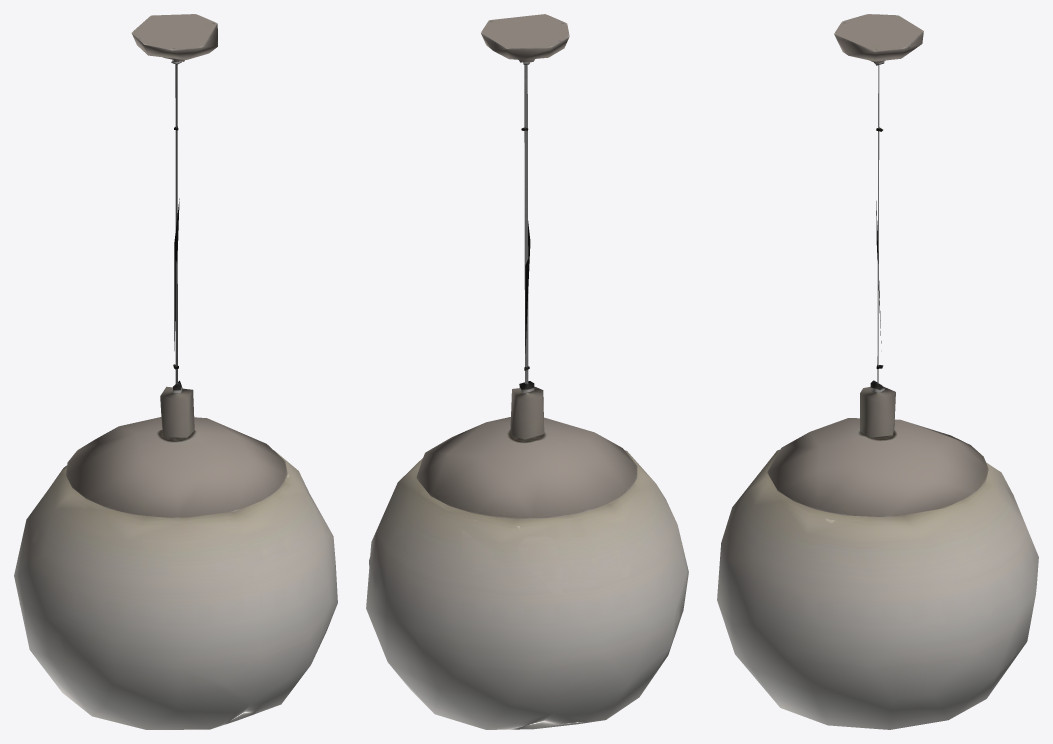
The picture shows the model from 3 angles, left to right: view 1: azimuth 30°, elevation 25°; view 2: azimuth 150°, elevation 25°; view 3: azimuth 270°, elevation 25°; orthographic projection.
Parts seen in each view (by area): view 1: modern_ceiling_lamp_01; view 2: modern_ceiling_lamp_01; view 3: modern_ceiling_lamp_01.
Boxes of the visible parts, x1,y1,x2,y2 form: modern_ceiling_lamp_01: [14, 14, 337, 729]; modern_ceiling_lamp_01: [366, 14, 688, 729]; modern_ceiling_lamp_01: [717, 14, 1038, 729].
Size of the model in its own units: 0.4287 by 0.9512 by 0.4279.
Materials: 2 (2 with a texture image).
